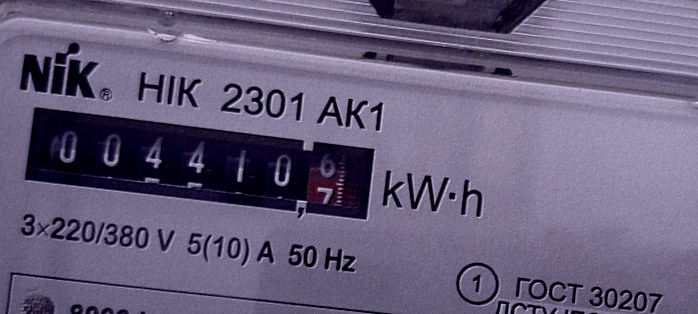0: (55, 126, 80, 166), (270, 151, 294, 189), (100, 130, 122, 169)
1: (231, 147, 249, 185)
4: (184, 137, 210, 178), (141, 131, 167, 171)
6: (318, 152, 338, 180)
7: (313, 184, 334, 206)
screen: (12, 94, 388, 233)
